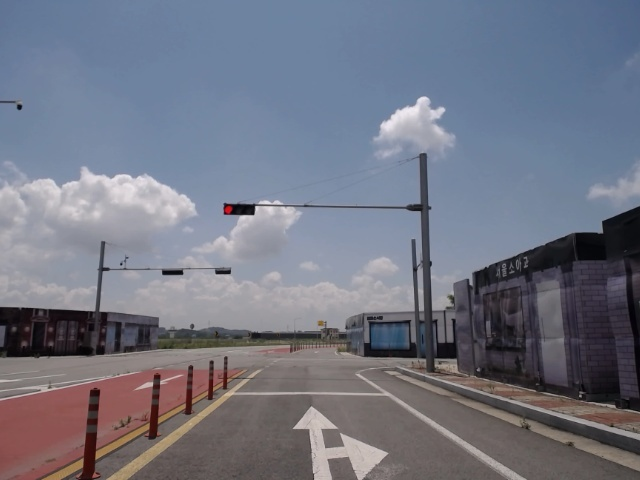red_3: (221, 202, 257, 217)
